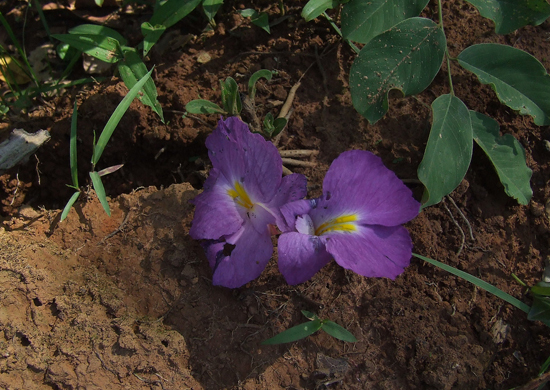violet: (285, 137, 431, 311), (192, 112, 299, 292)
